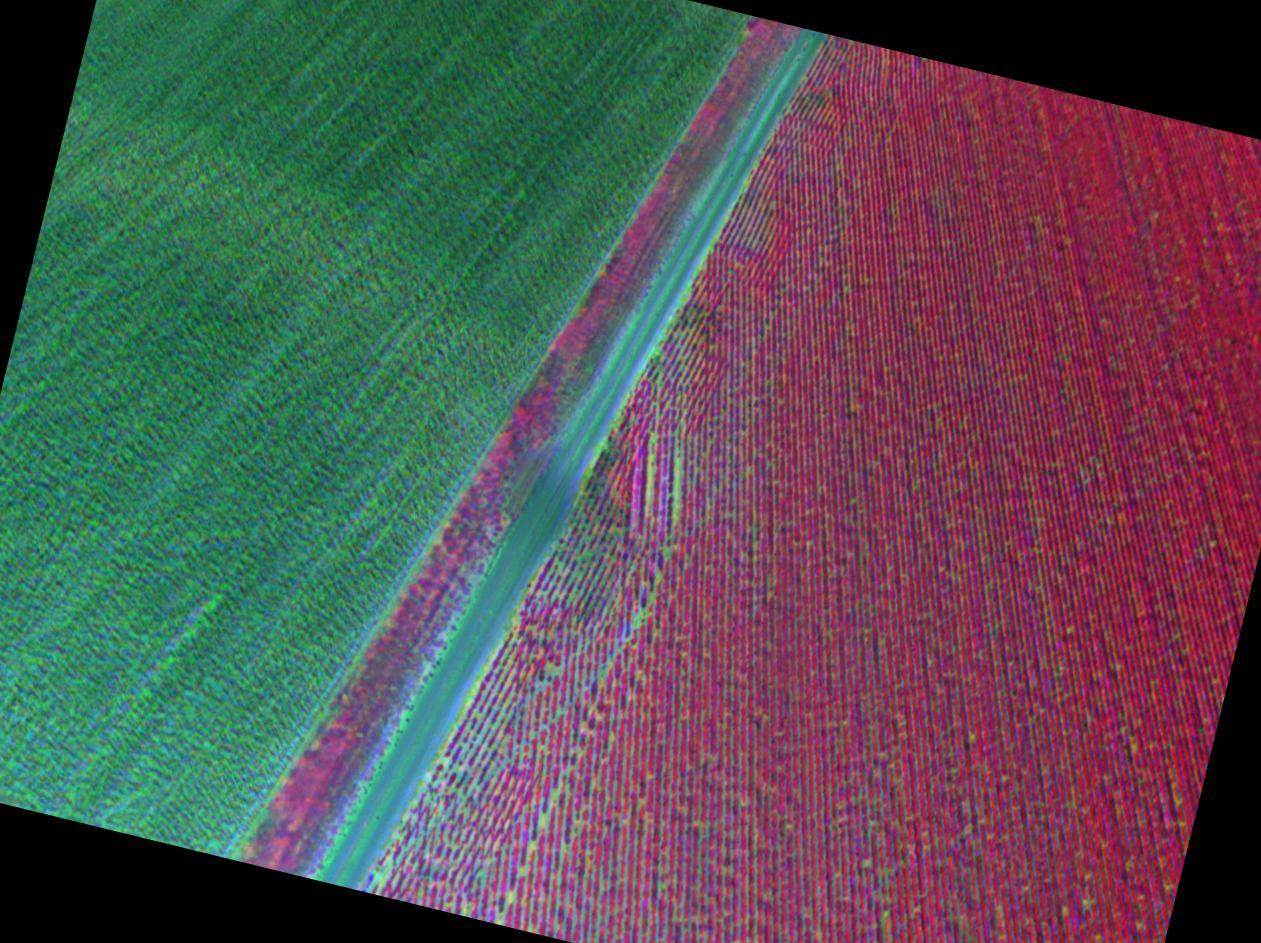dc: (540, 815, 547, 824), (863, 860, 871, 867), (1210, 542, 1215, 546)
